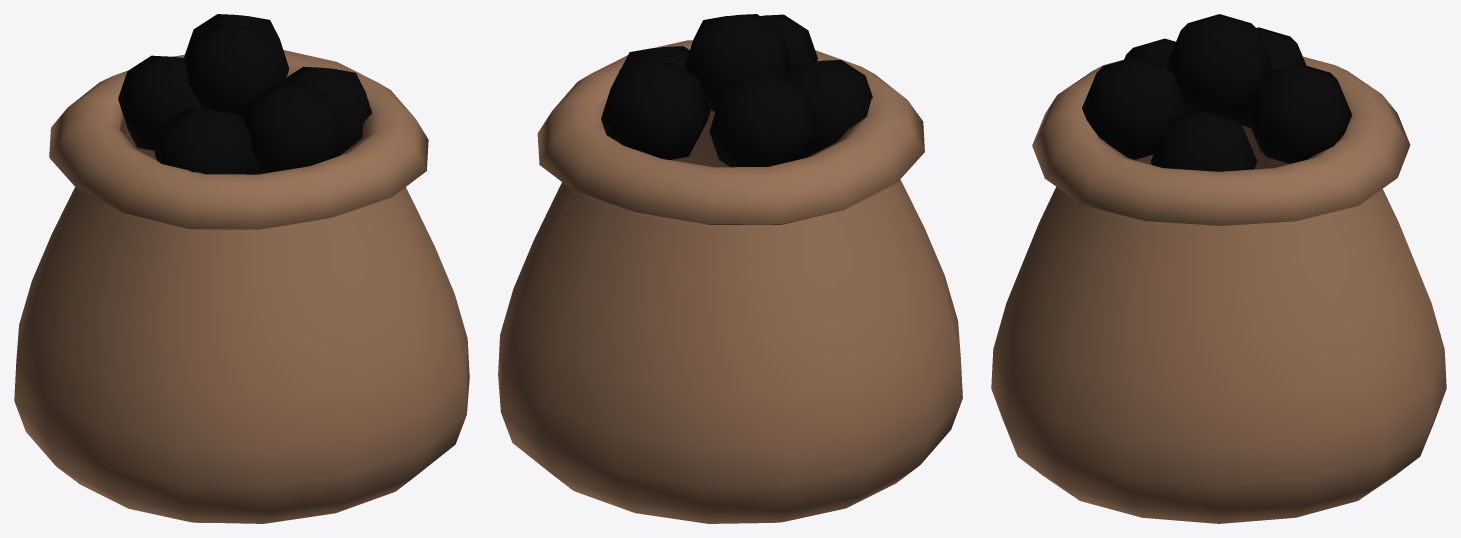
The model's file is KömürÇuvalı.fbx.
3 renders of one model, left to right at view 1: azimuth 30°, elevation 25°; view 2: azimuth 150°, elevation 25°; view 3: azimuth 270°, elevation 25°, orthographic. The views are drawn at different scales.
Parts seen in each view (by area): view 1: KömürÇuval; view 2: KömürÇuval; view 3: KömürÇuval.
Boxes of the visible parts, left/top/right/bottom form: KömürÇuval: left=14, top=14, right=469, bottom=523; KömürÇuval: left=498, top=14, right=962, bottom=523; KömürÇuval: left=991, top=14, right=1446, bottom=523.
Size of the model in its own units: 0.4276 by 0.4701 by 0.4276.
